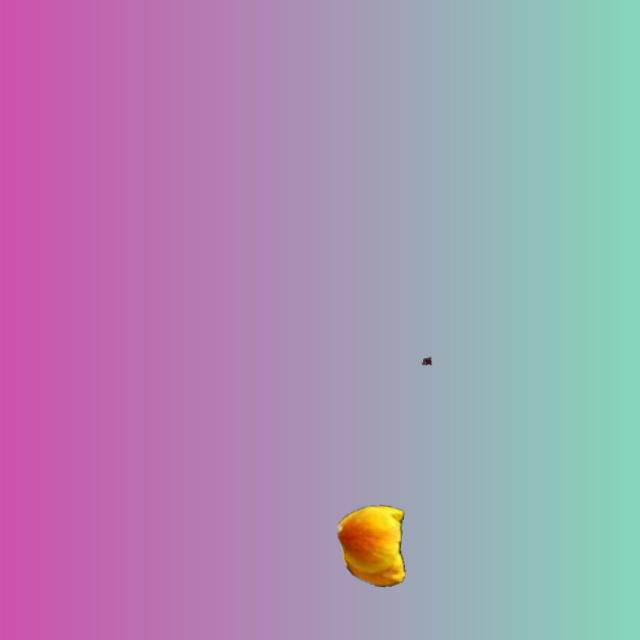butterfly flower: (421, 357, 431, 364)
wallflower: (337, 505, 405, 586)
